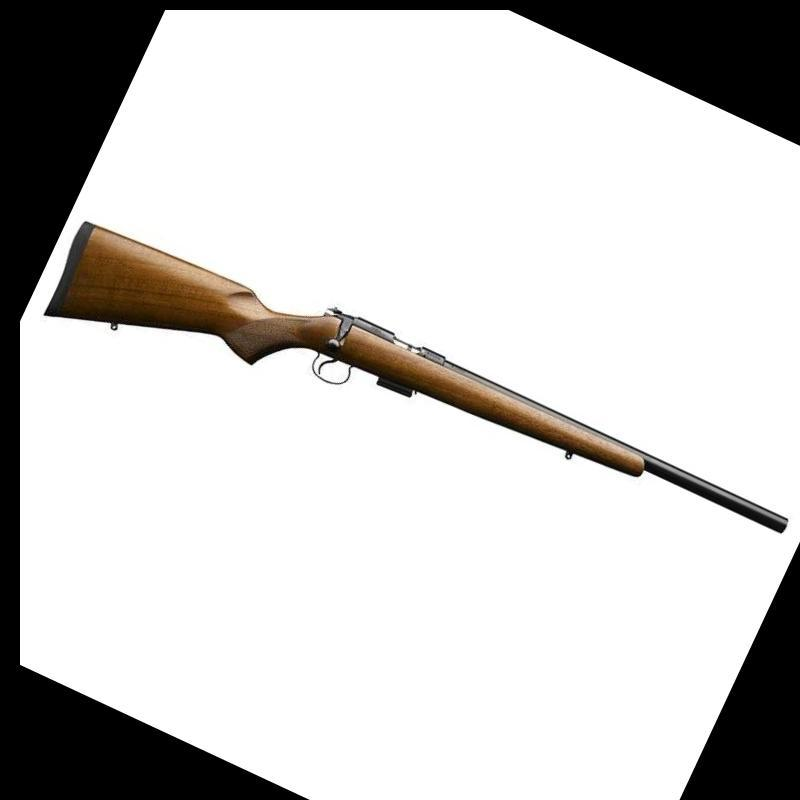larga: (41, 221, 793, 536)
